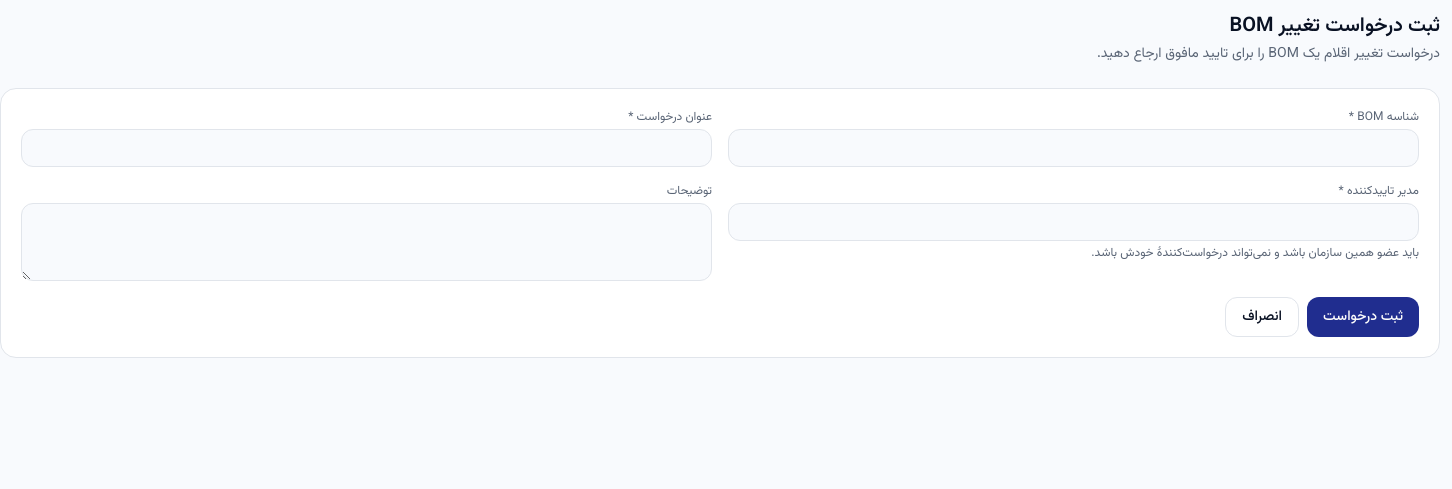
Scenario: ProductionBomChangeFormView › renders a refusal from its TYPED code, never from the English sentence
Type "44444444-4444-4444-8444-444444444444" into the field labelled "شناسه BOM *" at x=1074, y=148, box x1=728 y1=129 x2=1419 y2=167
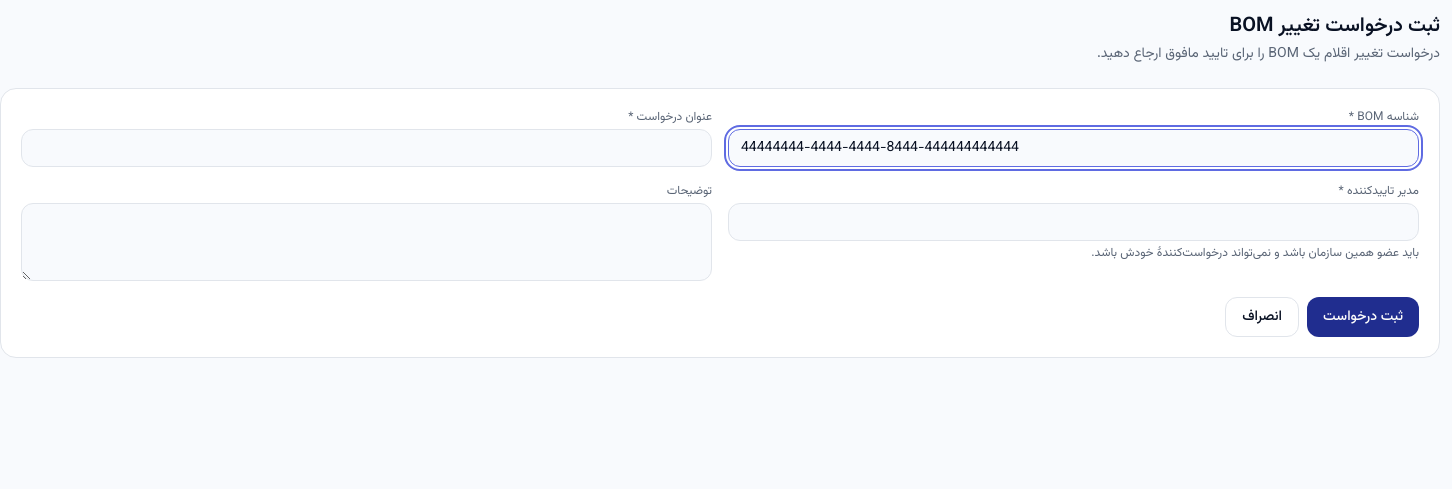
Type "x" into the field labelled "عنوان درخواست *" at x=366, y=148, box x1=21 y1=129 x2=712 y2=167
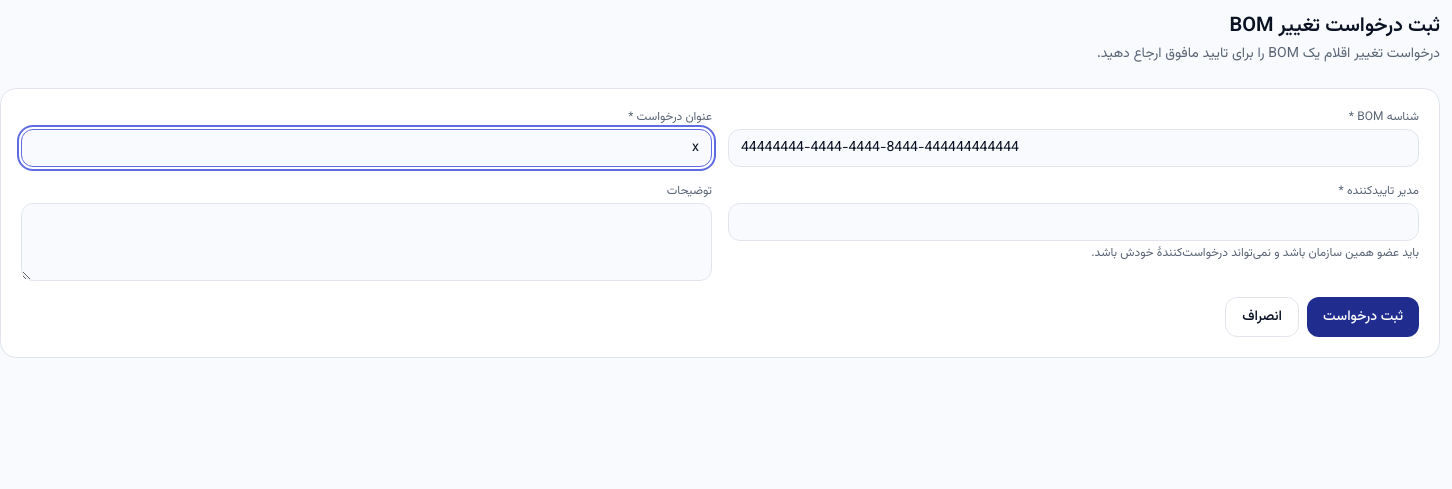
Type "u-2" into the field labelled "مدیر تاییدکننده *" at x=1074, y=222, box x1=728 y1=203 x2=1419 y2=241
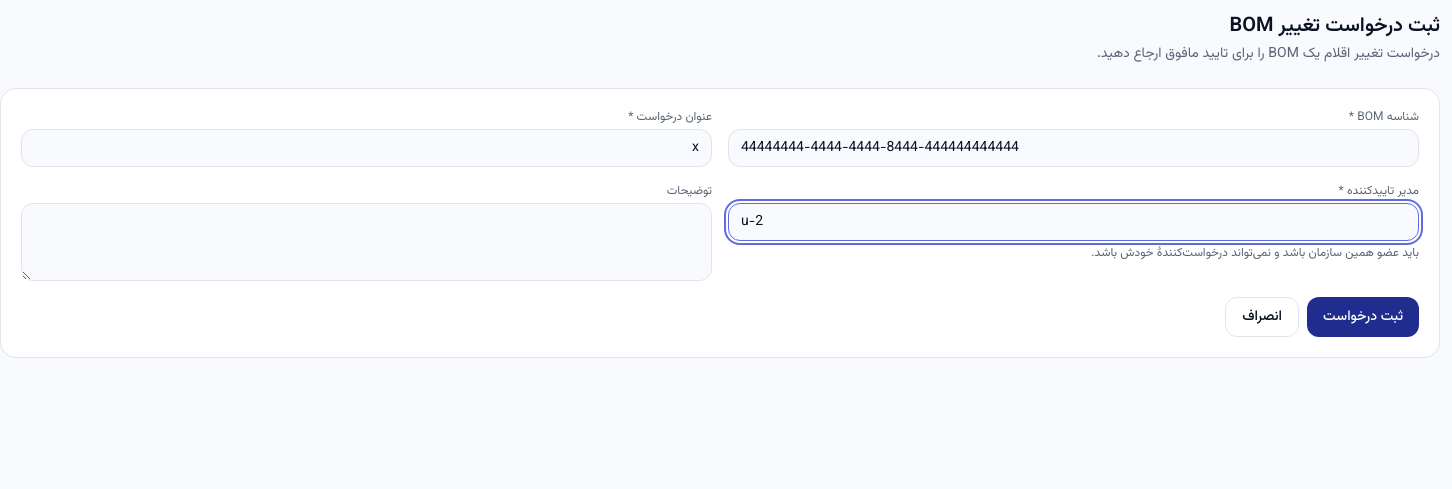
Click the button with test id "production-change-form-submit" at x=1363, y=317, box x1=1307 y1=297 x2=1419 y2=337
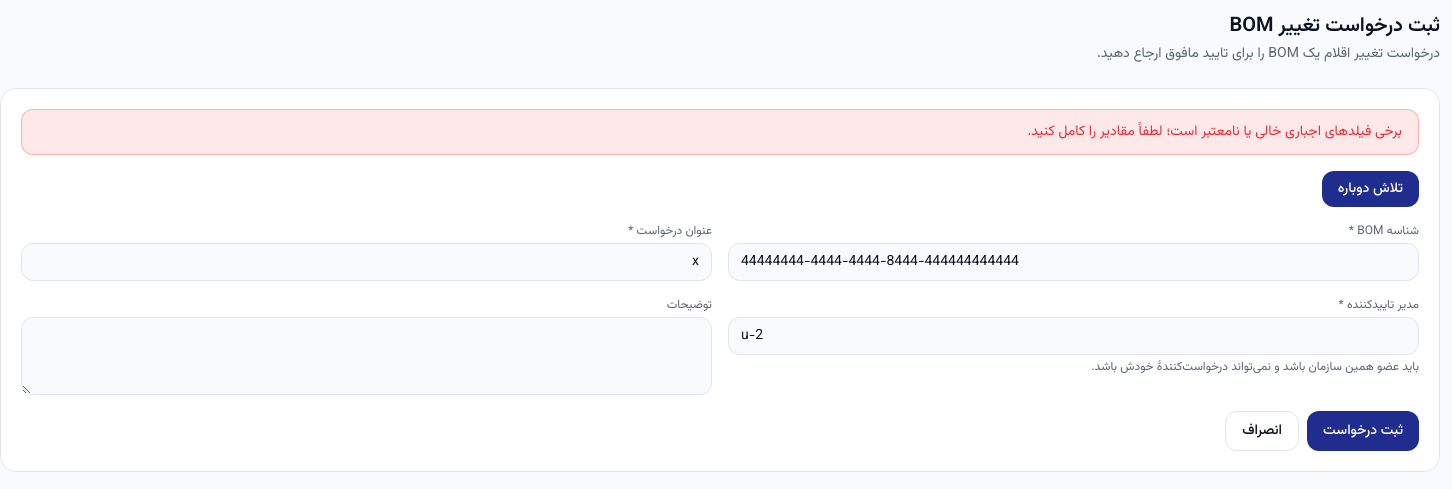
expect the element with test id "production-change-form-error" shows "برخی فیلدهای اجباری خالی یا نامعتبر است": met, box x1=1027 y1=121 x2=1402 y2=143
